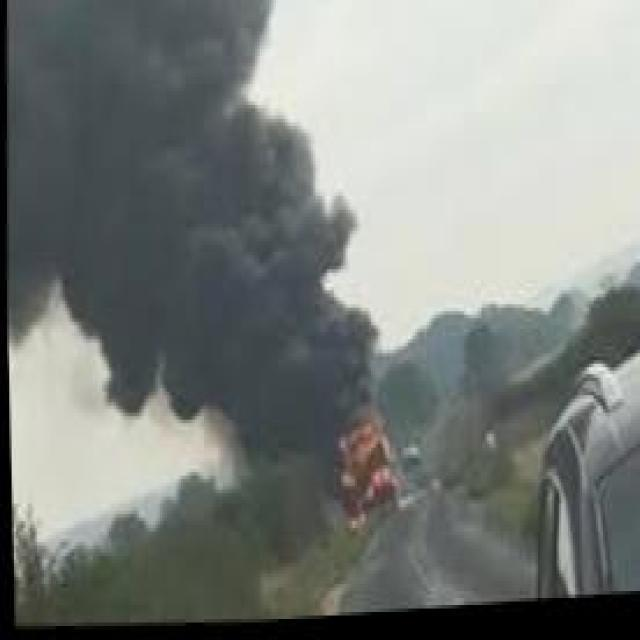Fire: (324, 398, 406, 538)
Smoke: (0, 0, 394, 430)
